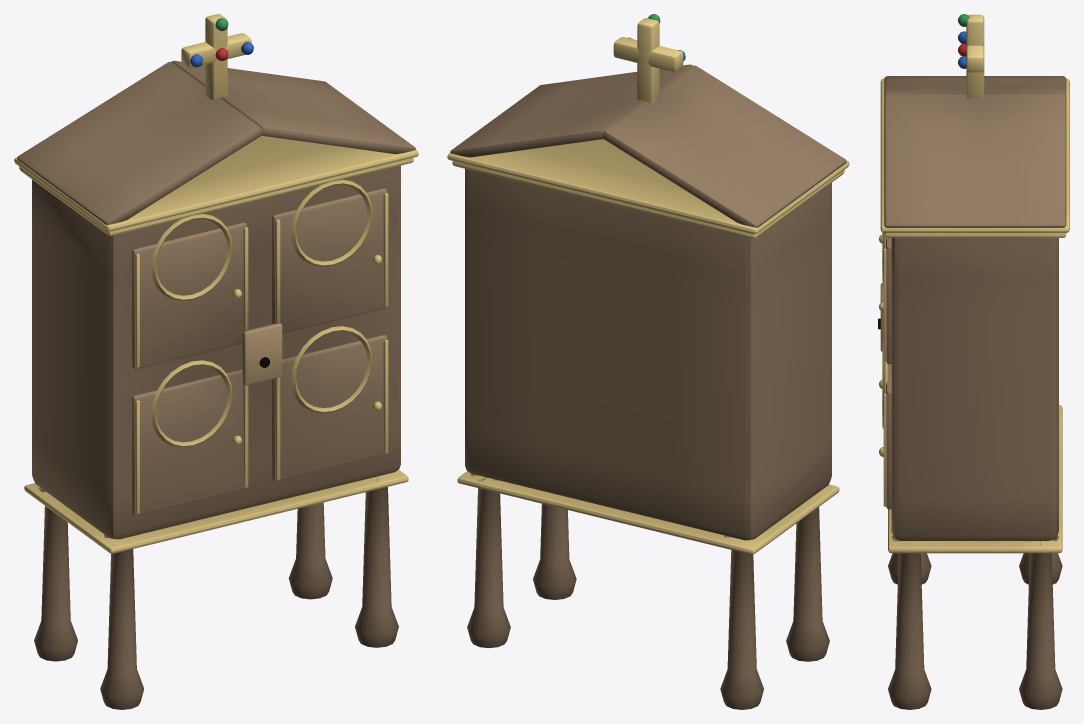
Rendered from obj_kit_reliquary.glb.
3 views of the same model, side by side, from view 1: azimuth 30°, elevation 25°; view 2: azimuth 150°, elevation 25°; view 3: azimuth 270°, elevation 25° (orthographic).
Parts seen in each view (by area): view 1: Cube, Cube.017, Cube.004, Cube.010, Cube.007, Cube.013, Cube.002, Cube.018, Cube.003, foot, foot.002, foot.001 (+11 smaller); view 2: Cube, Cube.017, Cube.002, Cube.018, Cube.003, foot.003, foot.001, foot, foot.002, Cube.001, Cube.019, Cube.020; view 3: Cube, Cube.018, foot.003, foot.002, Cube.017, Cube.003, Cube.002, Cube.019, Cube.001, Cube.013, Cube.007, foot.001 (+4 smaller).
Part boxes in pixels (box(x1,y1,x2,y2)): Cube: box(32, 165, 400, 539); Cube.017: box(17, 61, 262, 224); Cube.004: box(132, 222, 247, 368); Cube.010: box(132, 369, 246, 515); Cube.007: box(272, 188, 387, 333); Cube.013: box(272, 335, 387, 481); Cube.002: box(14, 136, 418, 231); Cube.018: box(172, 60, 415, 154); Cube.003: box(24, 469, 408, 553); foot: box(100, 534, 143, 709); foot.002: box(355, 477, 398, 647); foot.001: box(34, 487, 77, 661); Cube: box(465, 168, 831, 540); Cube.017: box(603, 65, 846, 227); Cube.002: box(447, 139, 849, 234); Cube.018: box(450, 64, 692, 157); Cube.003: box(457, 471, 839, 554); foot.003: box(467, 473, 510, 647); foot.001: box(720, 535, 763, 709); foot: box(786, 507, 829, 661); foot.002: box(533, 503, 576, 599); Cube.001: box(452, 161, 844, 238); Cube.019: box(637, 18, 659, 103); Cube.020: box(613, 37, 683, 71); Cube: box(891, 238, 1058, 540); Cube.018: box(884, 93, 1066, 227); foot.003: box(1019, 535, 1062, 709); foot.002: box(888, 535, 931, 709); Cube.017: box(884, 76, 1066, 96); Cube.003: box(888, 405, 1062, 553); Cube.002: box(880, 78, 1069, 232); Cube.019: box(966, 14, 984, 98); Cube.001: box(884, 233, 1066, 237); Cube.013: box(886, 364, 891, 509); Cube.007: box(886, 238, 891, 364); foot.001: box(1019, 553, 1062, 584).
Size of the model in its own units: 0.98 by 1.9 by 0.527.
